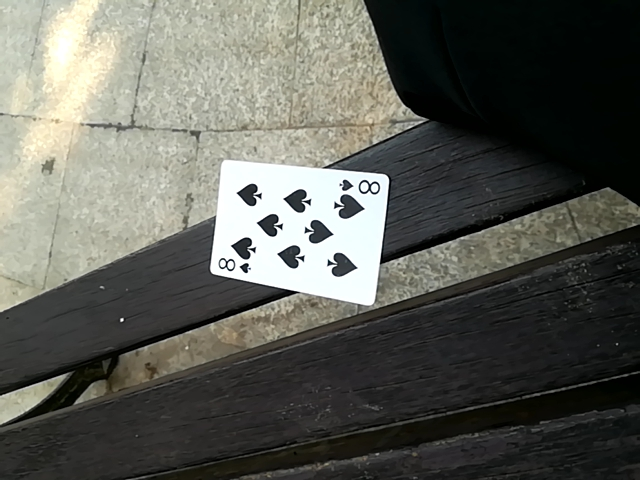ht 8: (200, 166, 388, 313)
